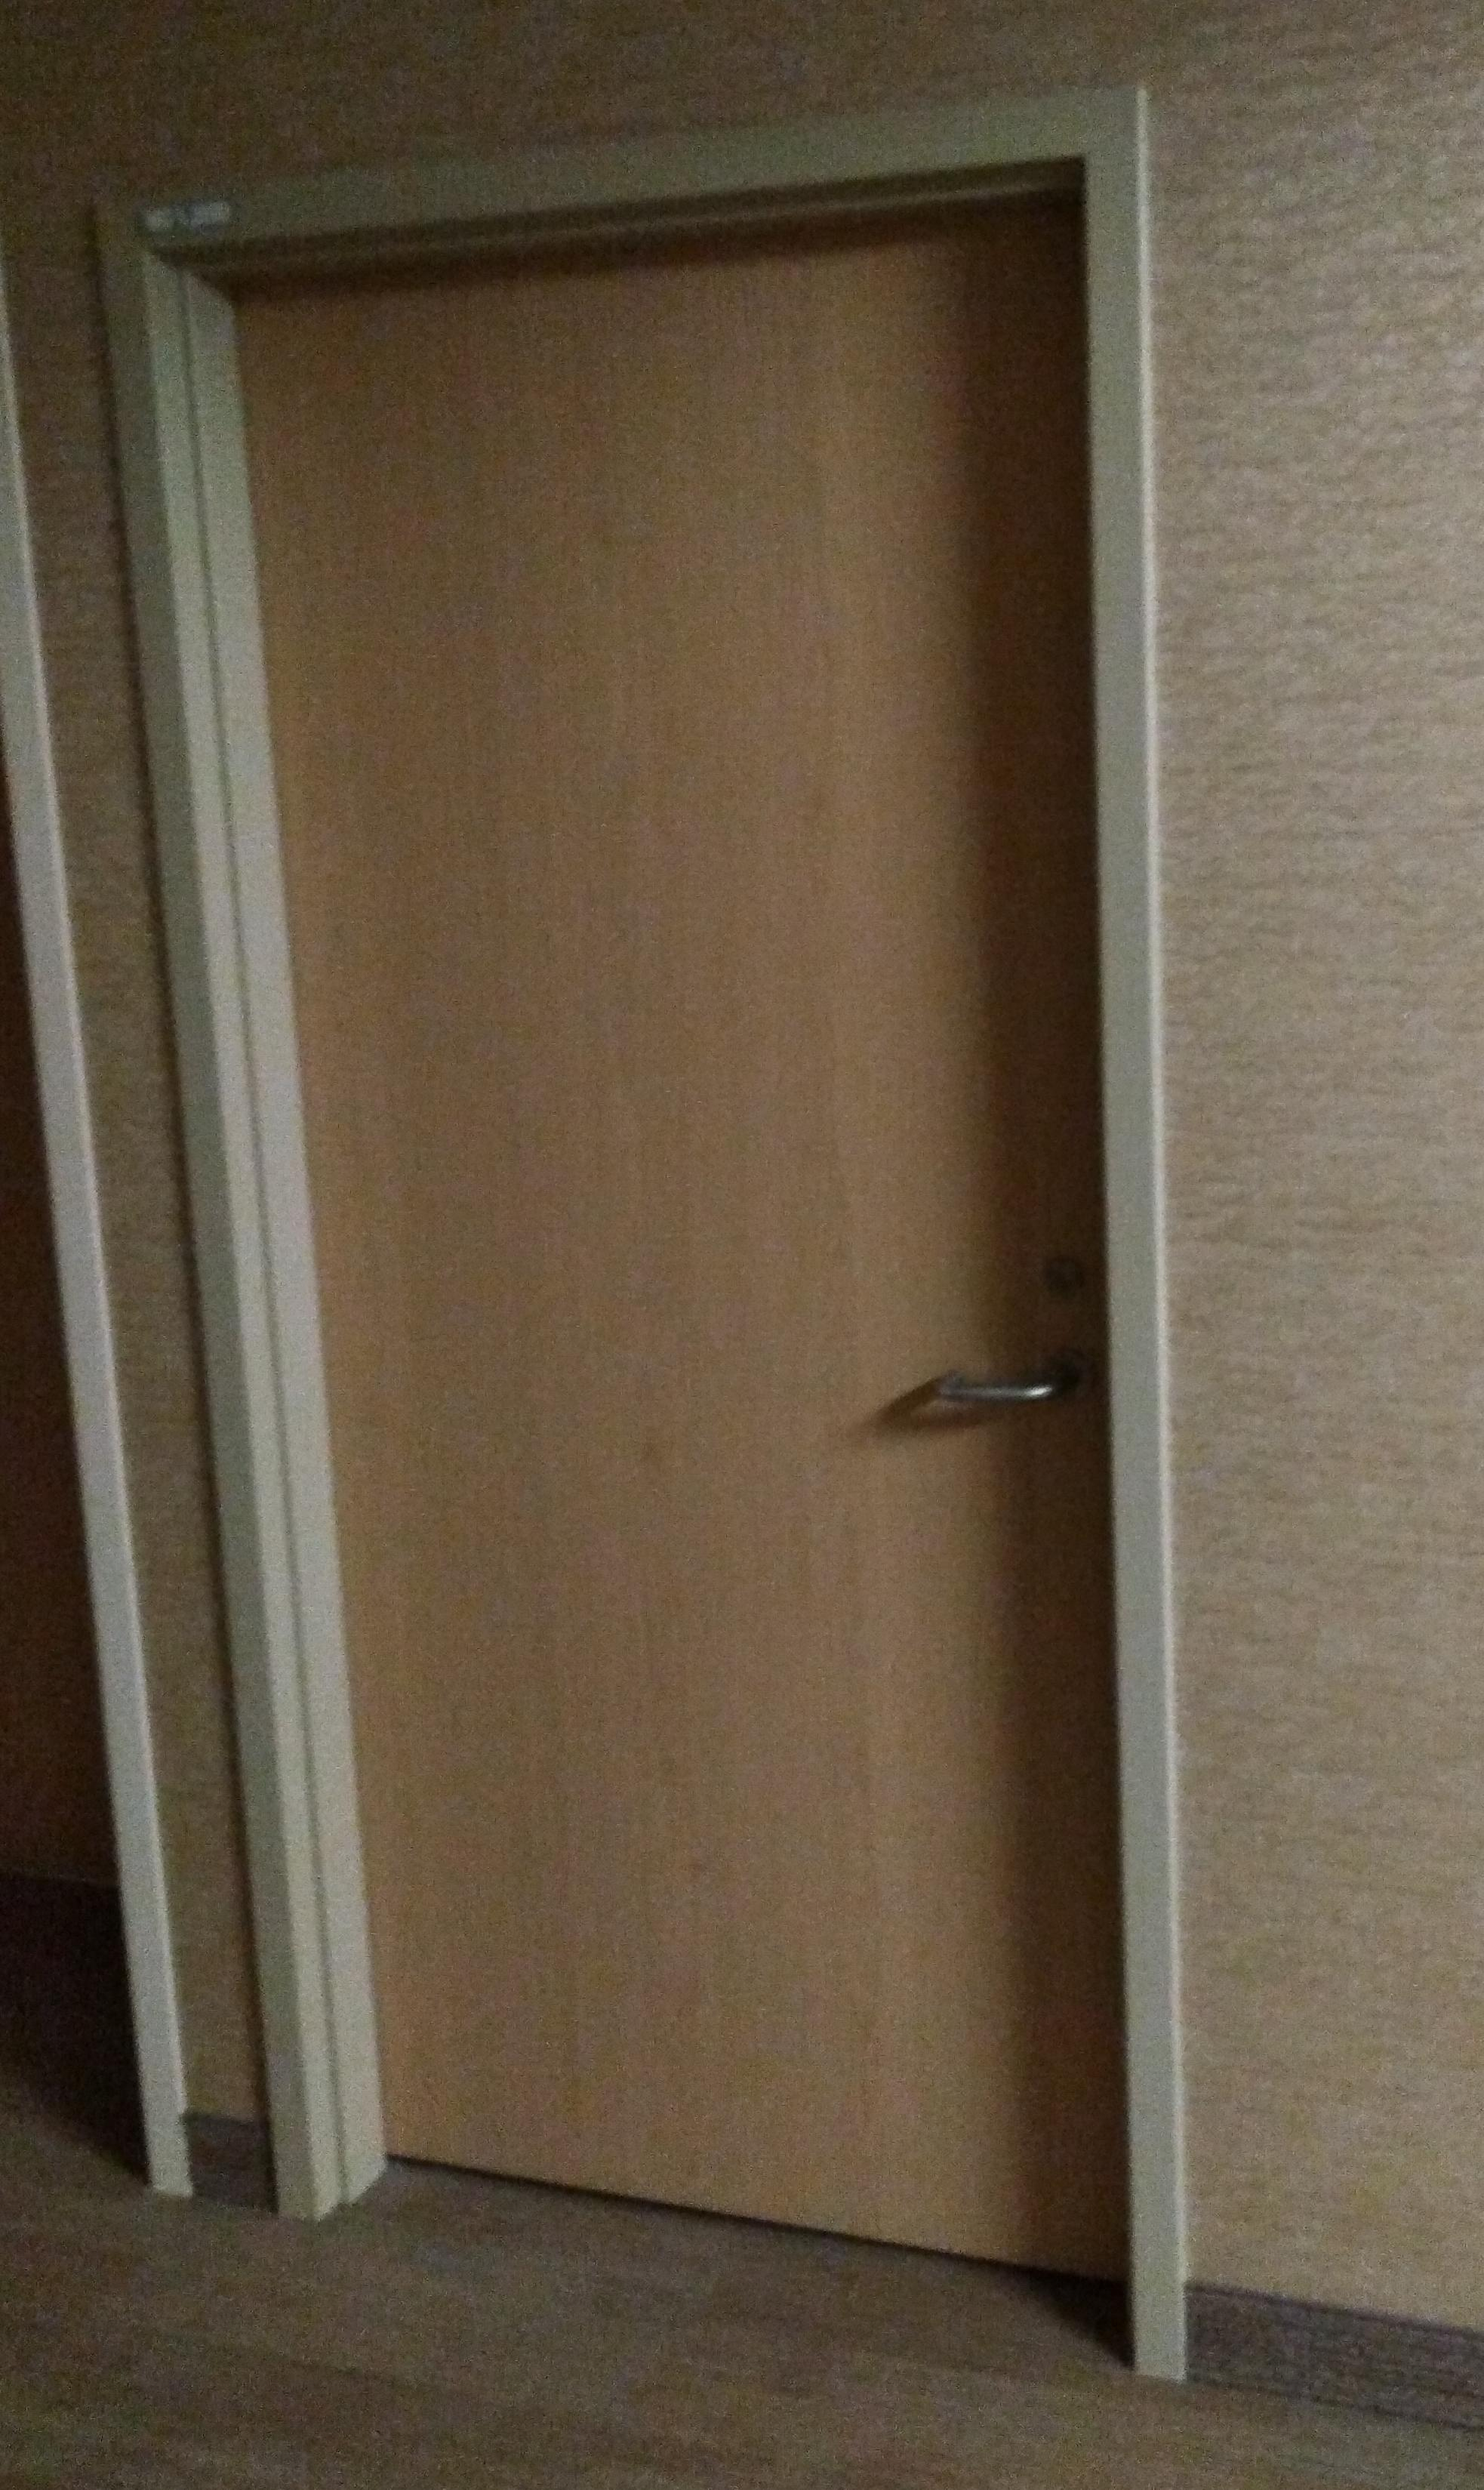door: (175, 198, 1164, 2297)
